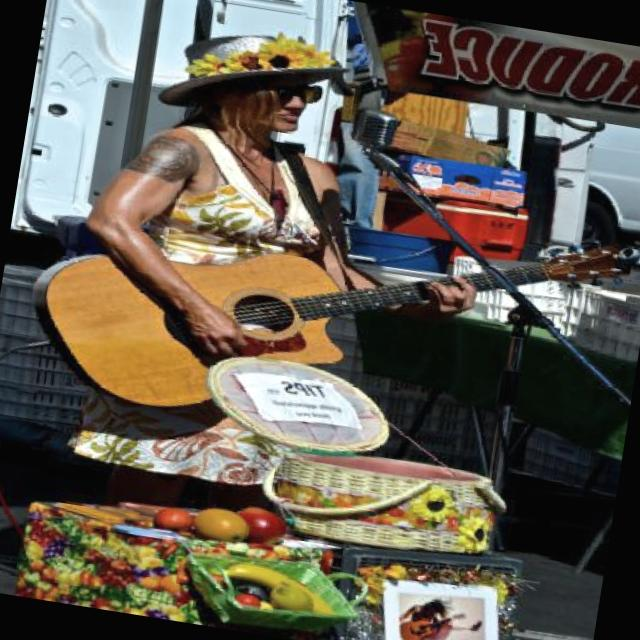Person: (90, 29, 568, 484)
